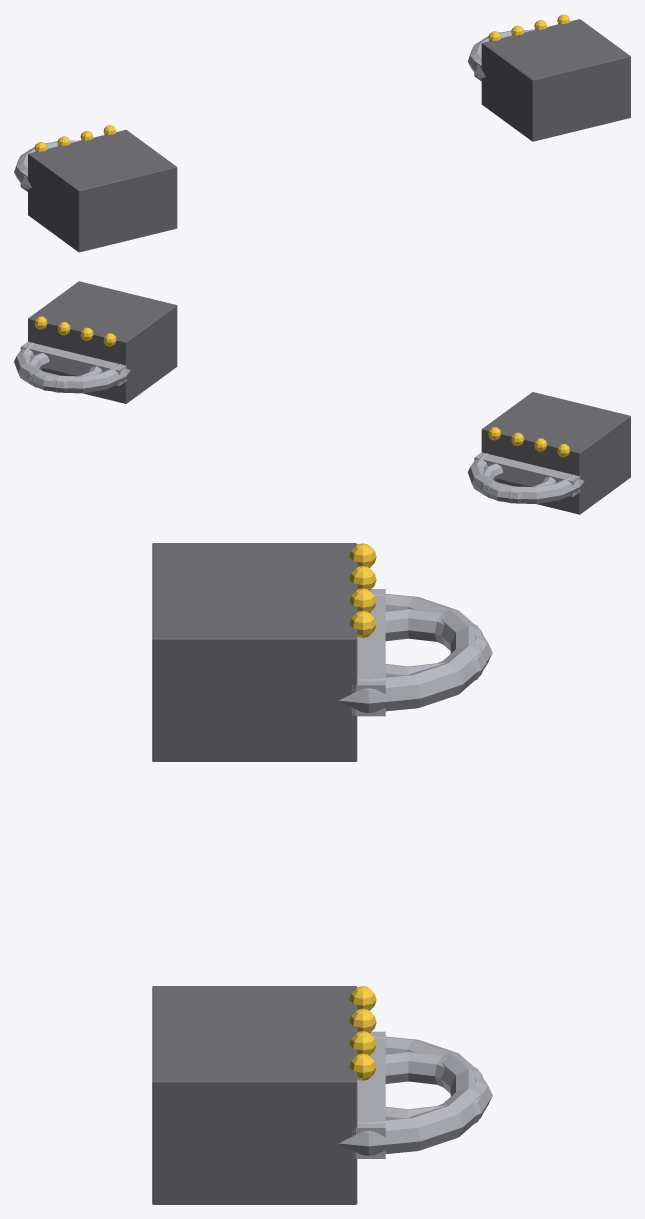
File: bullbar-guard.glb
The picture shows the model from 3 angles, top to bottom: view 1: azimuth 30°, elevation 25°; view 2: azimuth 150°, elevation 25°; view 3: azimuth 270°, elevation 25°; orthographic projection. The views are drawn at different scales.
Parts seen in each view (by area): view 1: plate_r, plate_l, hoop1_l, hoop1_r; view 2: plate_l, plate_r, hoop1_l, hoop1_r, cross_l, cross_r, hoop2_l, hoop2_r; view 3: plate_r, plate_l, hoop1_r, hoop1_l, hoop2_l, hoop2_r, cross_r, cross_l.
Part boxes in pixels (x1,y1,x2,y2): plate_r: (28,130,177,252); plate_l: (481,19,630,141); hoop1_l: (467,29,534,78); hoop1_r: (14,140,81,189); plate_l: (28,281,177,403); plate_r: (481,392,630,514); hoop1_l: (14,342,130,393); hoop1_r: (467,453,584,503); cross_l: (20,341,126,386); cross_r: (474,452,580,496); hoop2_l: (27,353,102,392); hoop2_r: (480,463,556,503); plate_r: (152,543,357,761); plate_l: (152,986,357,1204); hoop1_r: (339,593,486,712); hoop1_l: (339,1035,486,1155); hoop2_l: (385,1051,492,1123); hoop2_r: (385,608,492,681); cross_r: (351,589,385,716); cross_l: (351,1031,385,1158).
Bounding box in the file's own units: 1.13 × 0.132 × 0.299.
